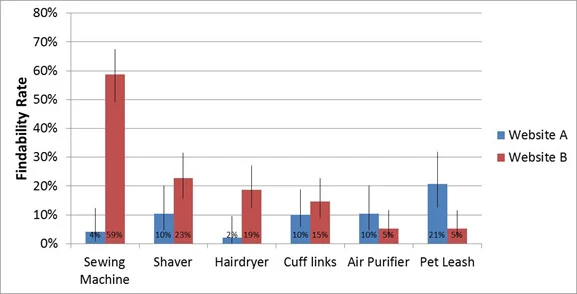OK_NoIssue: (30, 5, 569, 282)
